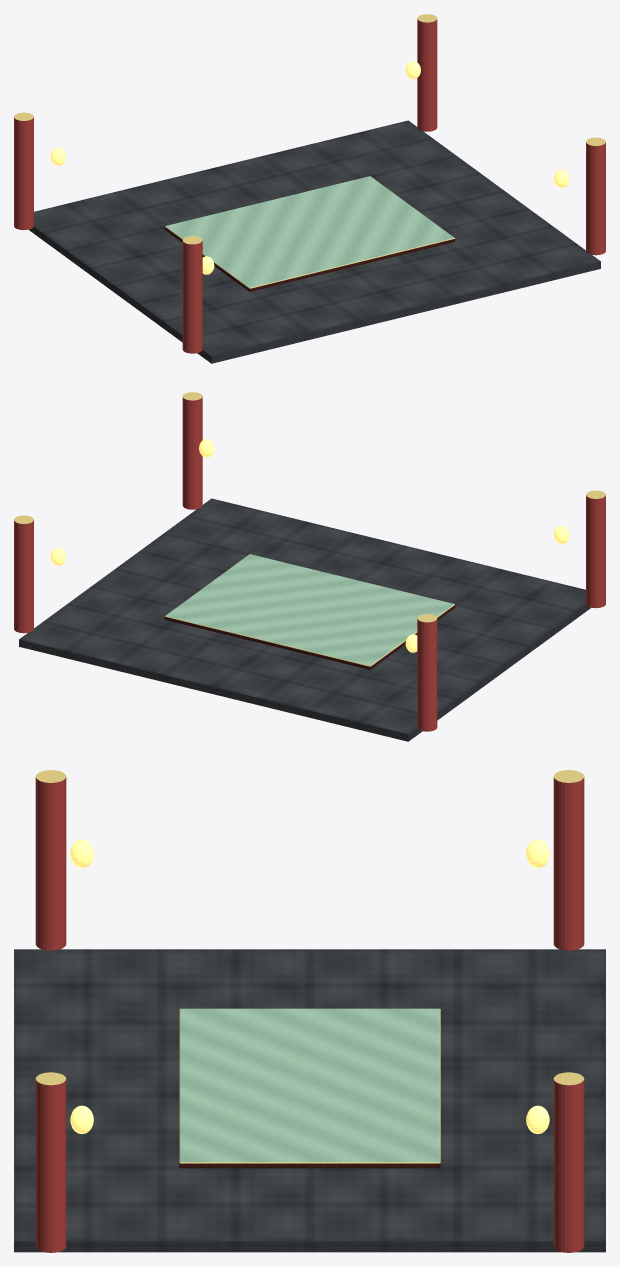
File: temple_environment_rpi.glb
3 renders of one model, top to bottom at view 1: azimuth 30°, elevation 25°; view 2: azimuth 150°, elevation 25°; view 3: azimuth 270°, elevation 25°, orthographic. The views are drawn at different scales.
Visible parts, largest first — view 1: Temple_Stone_Pavement, Low_Rosewood_Jade_Table, Temple_Crimson_Pillar_1, Temple_Crimson_Pillar_4, Temple_Crimson_Pillar_2, Temple_Crimson_Pillar_3; view 2: Temple_Stone_Pavement, Low_Rosewood_Jade_Table, Temple_Crimson_Pillar_3, Temple_Crimson_Pillar_2, Temple_Crimson_Pillar_4, Temple_Crimson_Pillar_1; view 3: Temple_Stone_Pavement, Low_Rosewood_Jade_Table, Temple_Crimson_Pillar_1, Temple_Crimson_Pillar_2, Temple_Crimson_Pillar_3, Temple_Crimson_Pillar_4.
Boxes of the visible parts, x1,y1,x2,y2 form: Temple_Stone_Pavement: [29, 120, 600, 363]; Low_Rosewood_Jade_Table: [164, 176, 455, 291]; Temple_Crimson_Pillar_1: [182, 236, 202, 353]; Temple_Crimson_Pillar_4: [417, 14, 437, 131]; Temple_Crimson_Pillar_2: [586, 137, 605, 255]; Temple_Crimson_Pillar_3: [14, 112, 33, 230]; Temple_Stone_Pavement: [19, 498, 590, 741]; Low_Rosewood_Jade_Table: [164, 554, 455, 669]; Temple_Crimson_Pillar_3: [417, 614, 437, 731]; Temple_Crimson_Pillar_2: [182, 392, 202, 509]; Temple_Crimson_Pillar_4: [14, 515, 33, 633]; Temple_Crimson_Pillar_1: [586, 490, 605, 608]; Temple_Stone_Pavement: [14, 949, 605, 1252]; Low_Rosewood_Jade_Table: [179, 1008, 440, 1168]; Temple_Crimson_Pillar_1: [35, 770, 66, 950]; Temple_Crimson_Pillar_2: [35, 1072, 66, 1252]; Temple_Crimson_Pillar_3: [553, 770, 584, 950]; Temple_Crimson_Pillar_4: [553, 1072, 584, 1252].
Bounding box in the file's own units: 30.24 × 8 × 24.
Materials: 6 (3 with a texture image).
